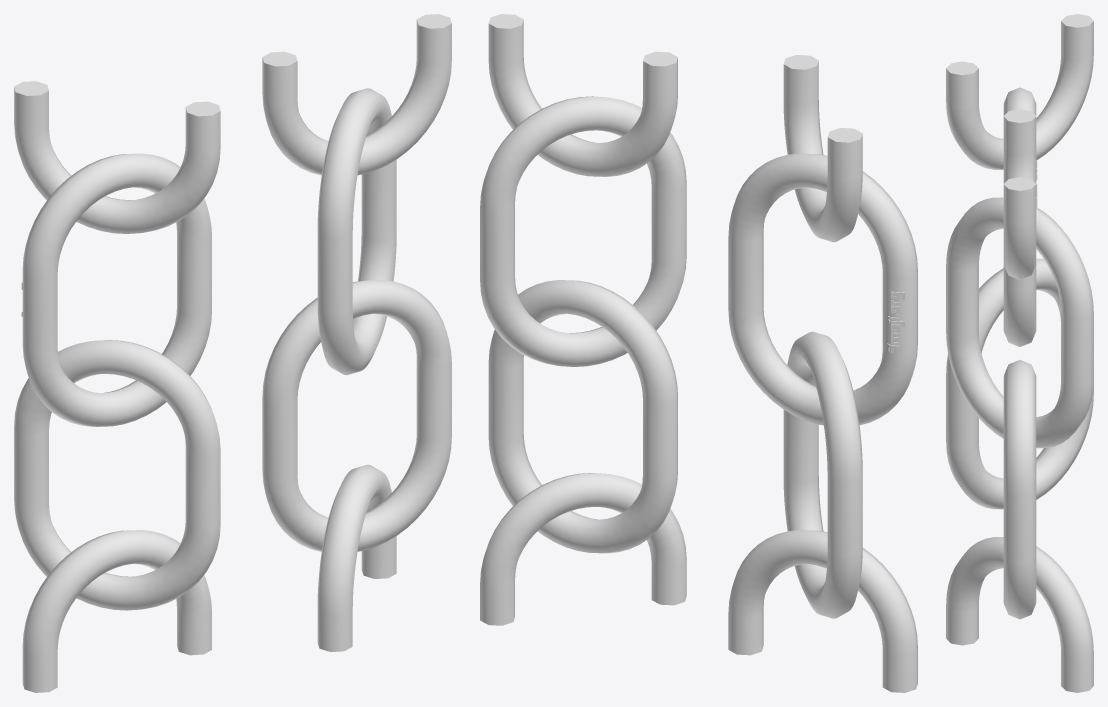
Rendered from chains.gltf.
3 renders of one model, left to right at view 1: azimuth 30°, elevation 25°; view 2: azimuth 150°, elevation 25°; view 3: azimuth 270°, elevation 25°, orthographic. The views are drawn at different scales.
Parts seen in each view (by area): view 1: Torus.011; view 2: Torus.011; view 3: Torus.011.
Boxes of the visible parts, x1=… form: Torus.011: x1=14, y1=14, x2=451, y2=692; Torus.011: x1=480, y1=14, x2=917, y2=692; Torus.011: x1=946, y1=14, x2=1093, y2=692.
Bounding box in the file's own units: 1.78 × 2.26 × 0.5922.
Materials: 1 (1 with a texture image).
